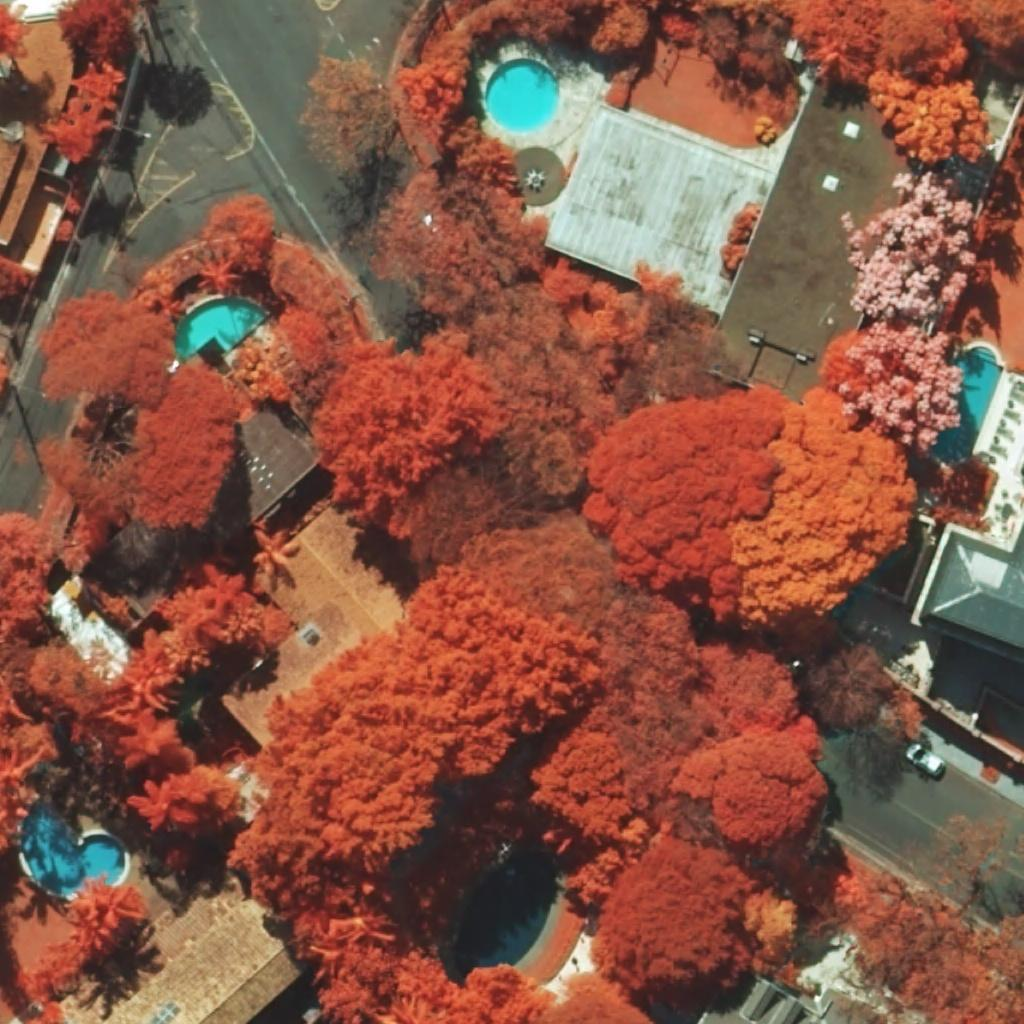pool: (455, 849, 555, 978), (22, 803, 126, 896), (930, 346, 1004, 467), (484, 58, 560, 134), (176, 297, 268, 359)
